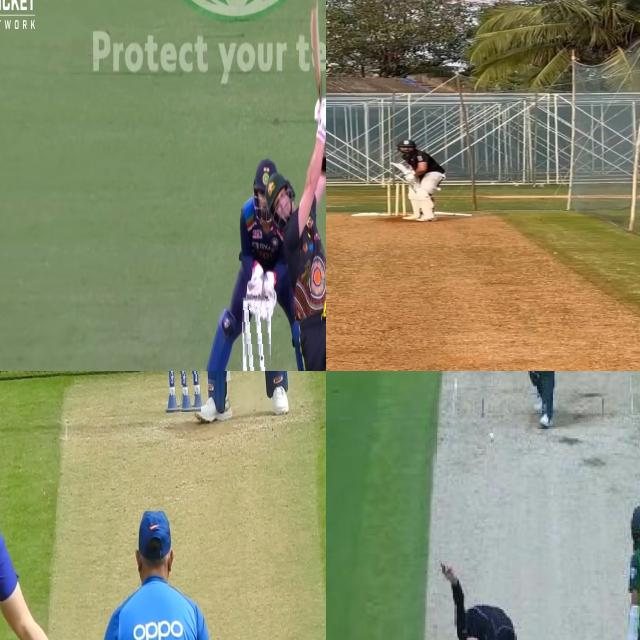Cricket ball: (164, 371, 201, 412), (487, 430, 496, 443)
Stumps: (239, 292, 271, 371), (384, 182, 409, 218)
